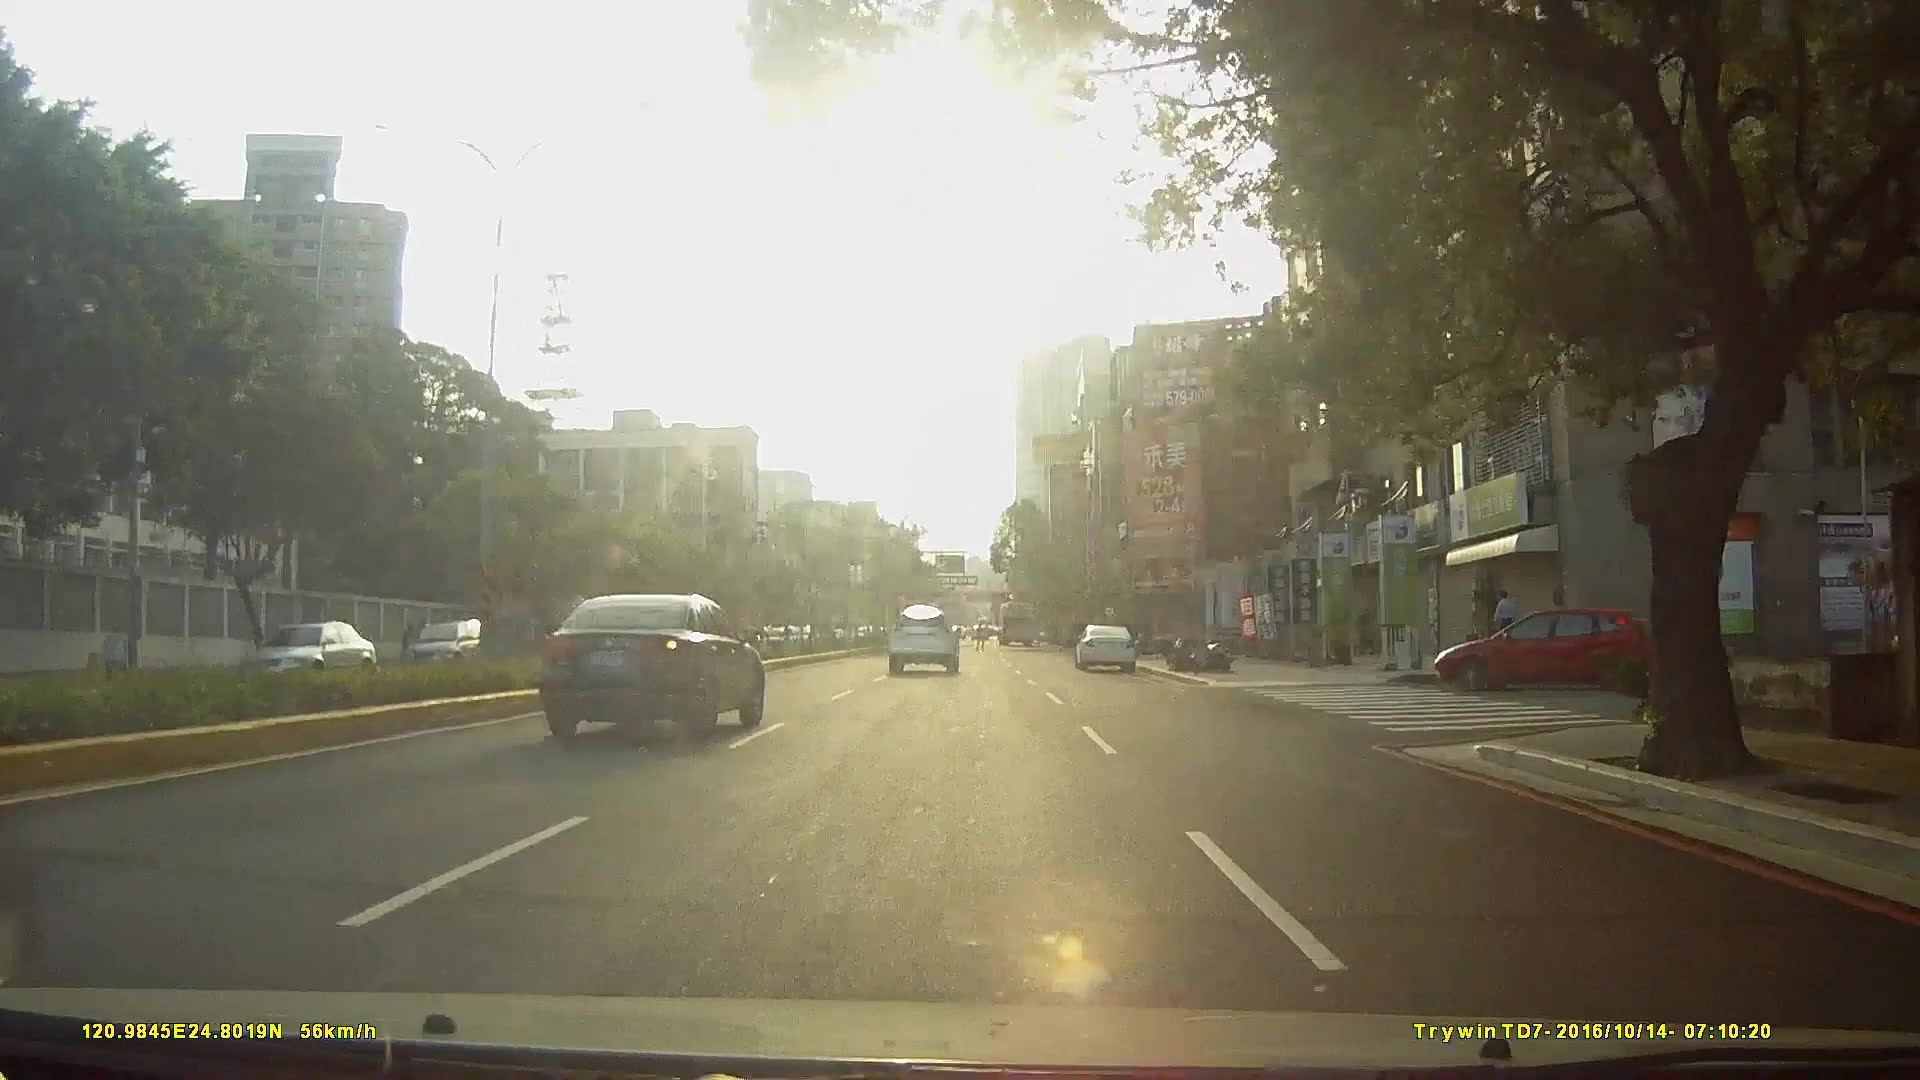pedestrian: (1496, 590, 1521, 661)
vehicle: (543, 588, 768, 744), (1425, 608, 1665, 706), (234, 617, 384, 694), (401, 610, 502, 670), (886, 604, 961, 674), (1072, 619, 1139, 669), (994, 598, 1038, 646)
